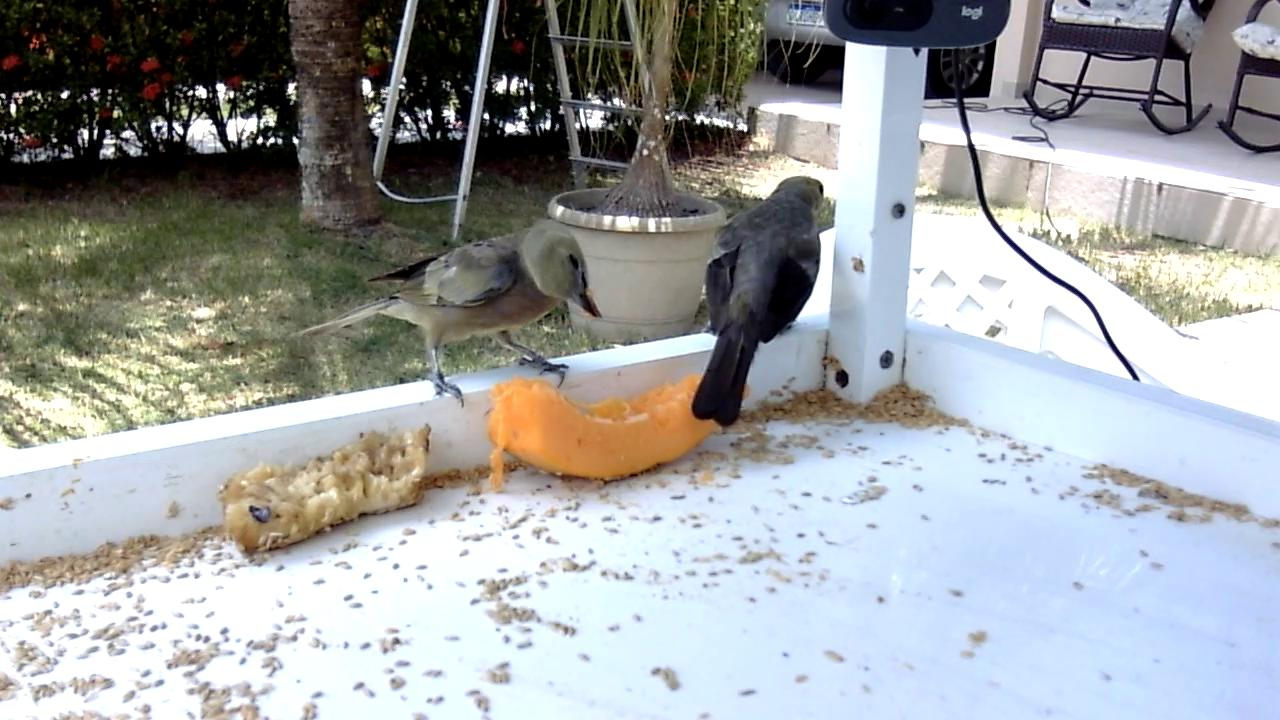sanhaco_do_coqueiro: (295, 218, 606, 413), (688, 174, 827, 430)
